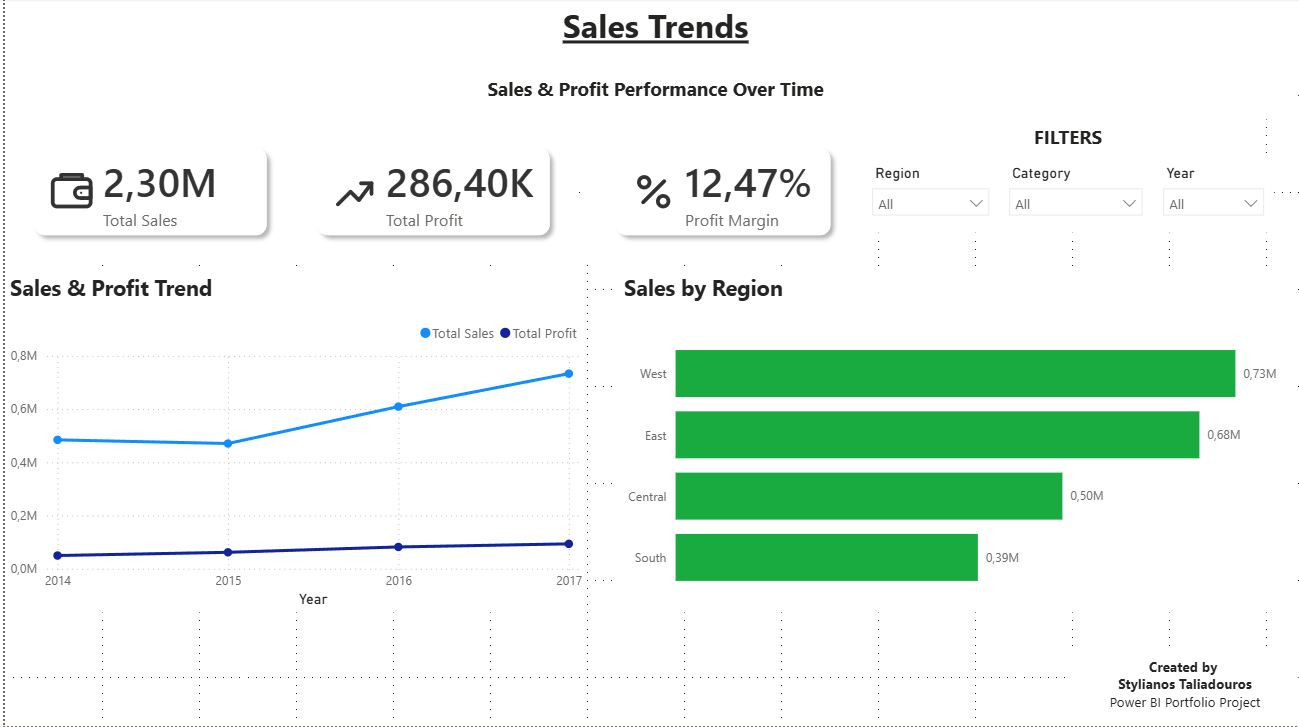

The dashboard page shown, as its layout file describes it:
{"tool":"powerbi","page":{"name":"Sales Trends","canvas":[1280,720],"ordinal":4},"visuals":[{"type":"textbox","box":[8,0,1272,72],"z":0},{"type":"textbox","box":[8,72,1272,48],"z":1000},{"type":"cardVisual","fields":{"Data":["Date.Total Sales"]},"box":[0,120,288,144],"z":2000},{"type":"cardVisual","fields":{"Data":["Date.Total Profit"]},"box":[280,120,288,144],"z":3000},{"type":"cardVisual","fields":{"Data":["Date.Profit Margin"]},"box":[576,120,270,144],"z":4000},{"type":"lineChart","title":"Sales & Profit Trend","fields":{"Y":["Date.Total Sales","Date.Total Profit"],"Category":["Date.Year"]},"box":[0,272,576,336],"z":5000},{"type":"clusteredBarChart","title":"Sales by Region","fields":{"Category":["Orders.Region"],"Y":["Date.Total Sales"]},"box":[608,272,672,336],"z":6000},{"type":"slicer","fields":{"Values":["Orders.Region"]},"box":[848,160,136,72],"z":7000},{"type":"slicer","fields":{"Values":["Orders.Category"]},"box":[984,160,152,72],"z":8000},{"type":"slicer","fields":{"Values":["Date.Year"]},"box":[1136,160,120,72],"z":9000},{"type":"textbox","box":[856,120,392,40],"z":10000},{"type":"textbox","box":[1056,648,224,72],"z":11000}]}

Visuals, with their boxes in screenshot pixels (x1, y1, x2, y2), scaled from the page's 1280x720 canvas onto the 1299x727 screenshot:
textbox: locate(8, 0, 1298, 73)
textbox: locate(8, 73, 1298, 121)
cardVisual - Date.Total Sales: locate(0, 121, 292, 267)
cardVisual - Date.Total Profit: locate(284, 121, 576, 267)
cardVisual - Date.Profit Margin: locate(585, 121, 859, 267)
"Sales & Profit Trend" lineChart: locate(0, 275, 585, 614)
"Sales by Region" clusteredBarChart: locate(617, 275, 1298, 614)
slicer - Orders.Region: locate(861, 162, 999, 234)
slicer - Orders.Category: locate(999, 162, 1153, 234)
slicer - Date.Year: locate(1153, 162, 1275, 234)
textbox: locate(869, 121, 1267, 162)
textbox: locate(1072, 654, 1298, 726)
